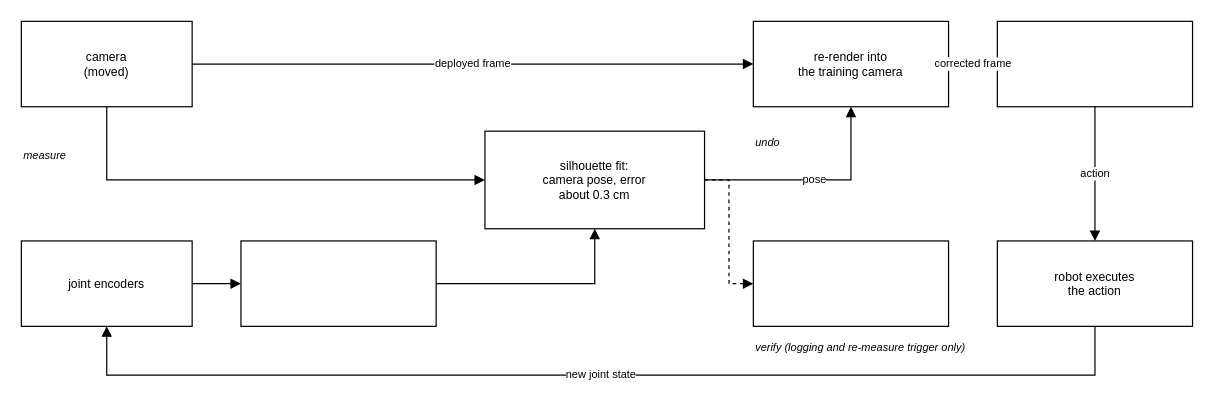
Some shapes in this 1214 by 406 pixel diagram are drawn without their labels. Here are the shapes that lost their labels. From the top down, the centre of each, then its label:
At pixel 1094 63: "frozen policy".
At pixel 338 283: "kinematic model + renderer".
At pixel 850 283: "self-check: F1 of silhouette vs kinematics".
